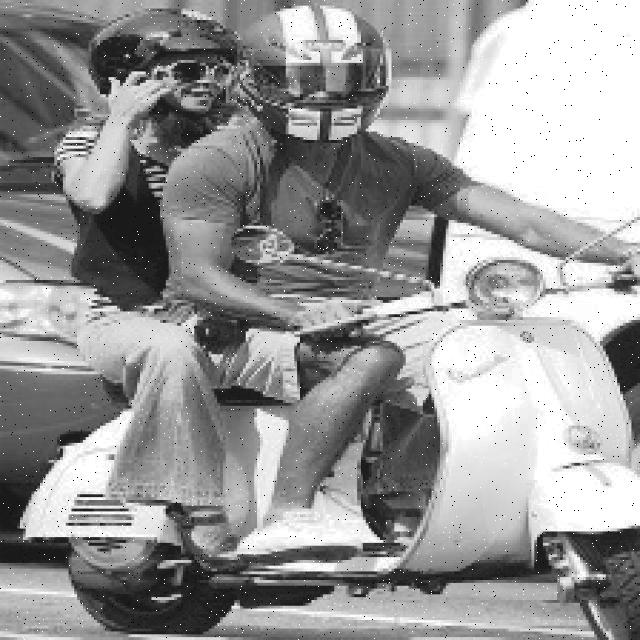Bike: (41, 298, 635, 640)
